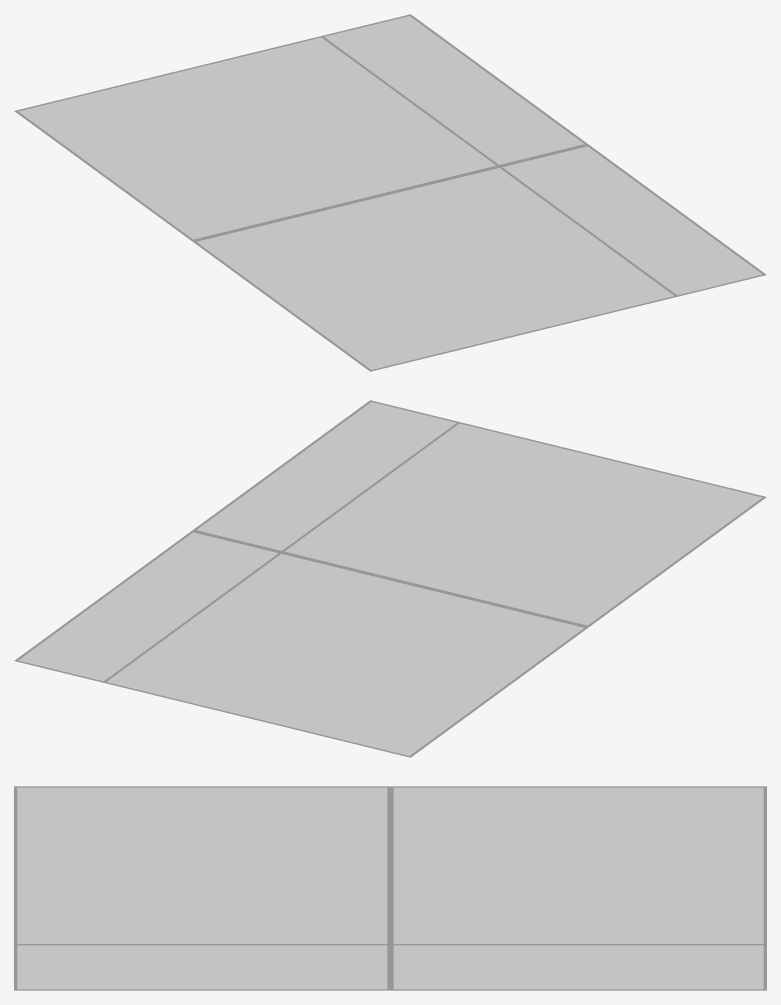
Rendered from M_CeilingTile225x350White80.FBX.
The picture shows the model from 3 angles, top to bottom: view 1: azimuth 30°, elevation 25°; view 2: azimuth 150°, elevation 25°; view 3: azimuth 270°, elevation 25°; orthographic projection. The views are drawn at different scales.
Visible parts, largest first — view 1: M_CeilingTile225x350White80; view 2: M_CeilingTile225x350White80; view 3: M_CeilingTile225x350White80.
Boxes of the visible parts, box(x1,y1,x2,y2) form: M_CeilingTile225x350White80: box(14, 14, 766, 371); M_CeilingTile225x350White80: box(14, 400, 766, 757); M_CeilingTile225x350White80: box(14, 786, 766, 990).
Bounding box in the file's own units: 2.25 × 1.14e-06 × 3.5.
